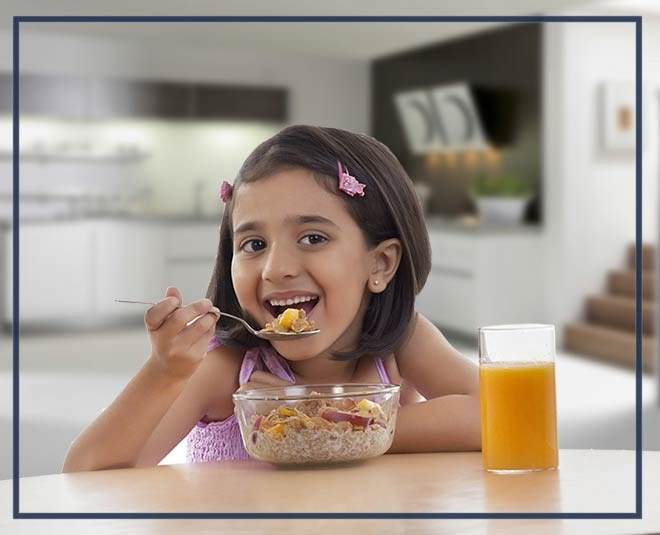student: (216, 141, 436, 363)
